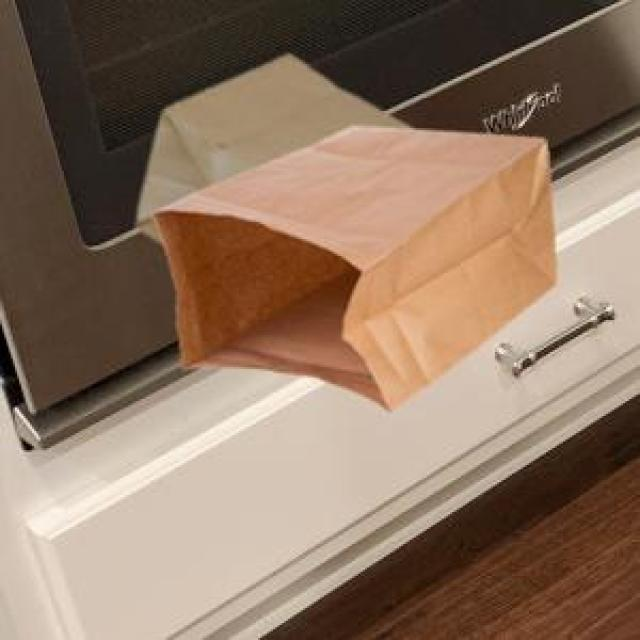paper: (149, 122, 553, 408), (132, 51, 408, 237)
